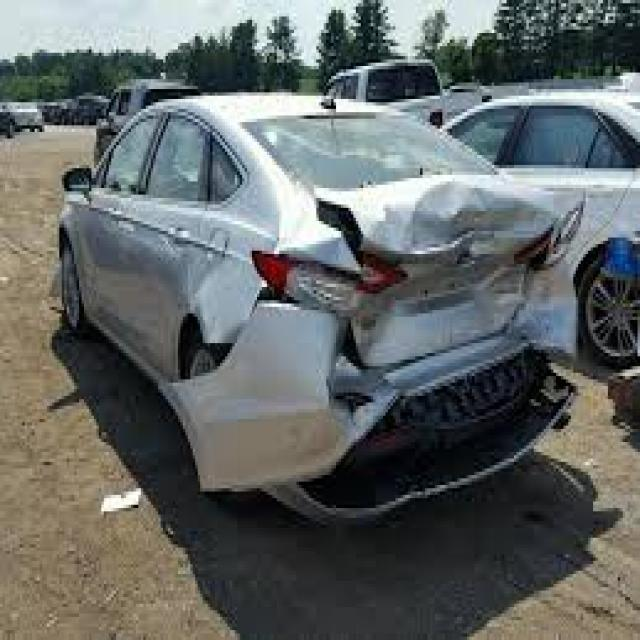damaged-trunk: (318, 172, 554, 366)
